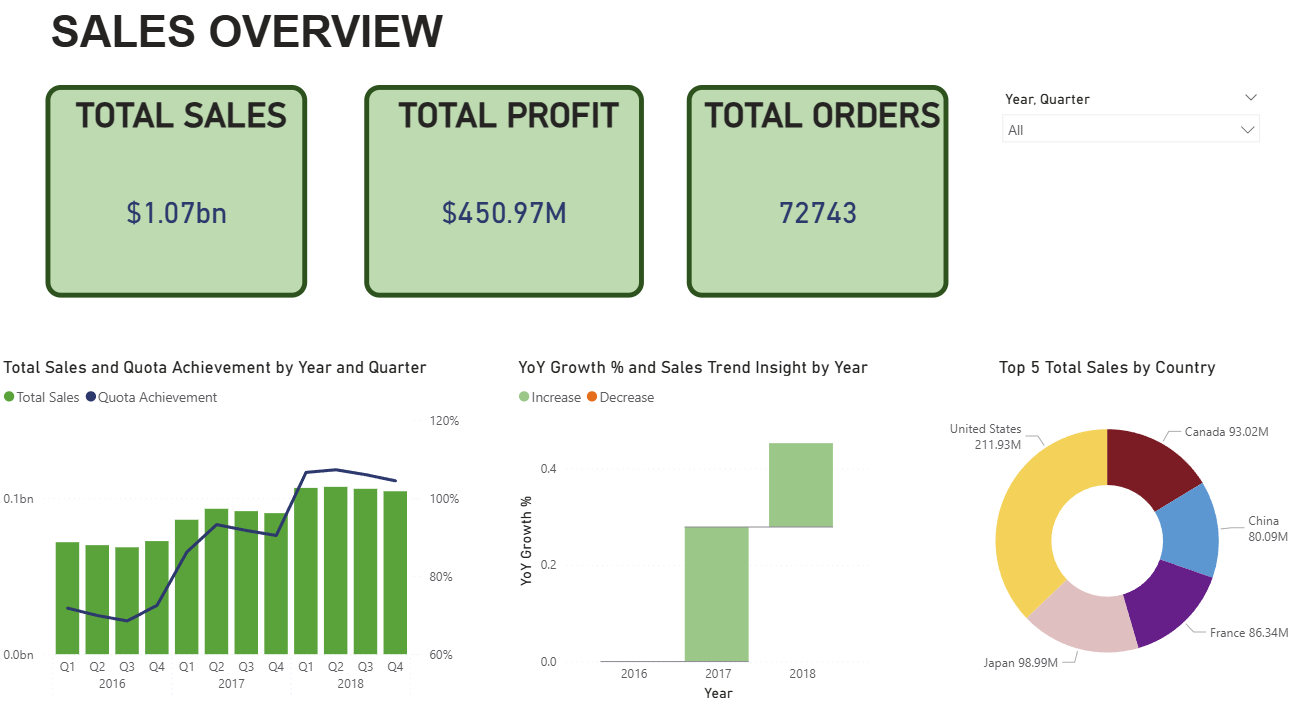

The dashboard page shown, as its layout file describes it:
{"tool":"powerbi","page":{"name":"Sales Overview","canvas":[1280,720],"ordinal":0},"visuals":[{"type":"card","title":"TOTAL SALES","fields":{"Values":["Calendar.Total Sales"]},"box":[46.8,112,256,208],"z":0},{"type":"card","title":"TOTAL PROFIT","fields":{"Values":["Calendar.Total Profit"]},"box":[358.2,112,273.2,208],"z":1000},{"type":"donutChart","title":"Top 5 Total Sales by Country","fields":{"Series":["Region.Country"],"Y":["Calendar.Total Sales"]},"box":[890.2,377.9,390.1,342.4],"z":2000},{"type":"card","title":"TOTAL ORDERS","fields":{"Values":["Calendar.Total Orders"]},"box":[673.2,112,256,208],"z":3000},{"type":"lineClusteredColumnComboChart","fields":{"Category":["Calendar.Date Hierarchy.Year","Calendar.Date Hierarchy.Quarter"],"Y":["Calendar.Total Sales"],"Y2":["Calendar.Quota Achievement"]},"box":[0,377.9,457.3,342.4],"z":4000},{"type":"slicer","fields":{"Values":["Calendar.Date Hierarchy.Year","Calendar.Date Hierarchy.Quarter"]},"box":[972.2,112.5,272.7,80.7],"z":6000},{"type":"textbox","box":[46.5,31.8,399.9,64.8],"z":7000},{"type":"waterfallChart","fields":{"Y":["Calendar.YoY Growth %"],"Category":["Calendar.Year"]},"box":[503.8,377.9,354.6,342.4],"z":8000}]}

Visuals, with their boxes on the page's 1280x720 design canvas (x1, y1, x2, y2). These are canvas units, not pixel positions in the 1298x704 screenshot, which may show the page scaled, cropped or inside an application window:
"TOTAL SALES" card: x1=47 y1=112 x2=303 y2=320
"TOTAL PROFIT" card: x1=358 y1=112 x2=631 y2=320
"Top 5 Total Sales by Country" donutChart: x1=890 y1=378 x2=1280 y2=720
"TOTAL ORDERS" card: x1=673 y1=112 x2=929 y2=320
lineClusteredColumnComboChart - Calendar.Date Hierarchy.Year x Calendar.Date Hierarchy.Quarter: x1=0 y1=378 x2=457 y2=720
slicer - Calendar.Date Hierarchy.Year x Calendar.Date Hierarchy.Quarter: x1=972 y1=112 x2=1245 y2=193
textbox: x1=46 y1=32 x2=446 y2=97
waterfallChart - Calendar.YoY Growth % x Calendar.Year: x1=504 y1=378 x2=858 y2=720
